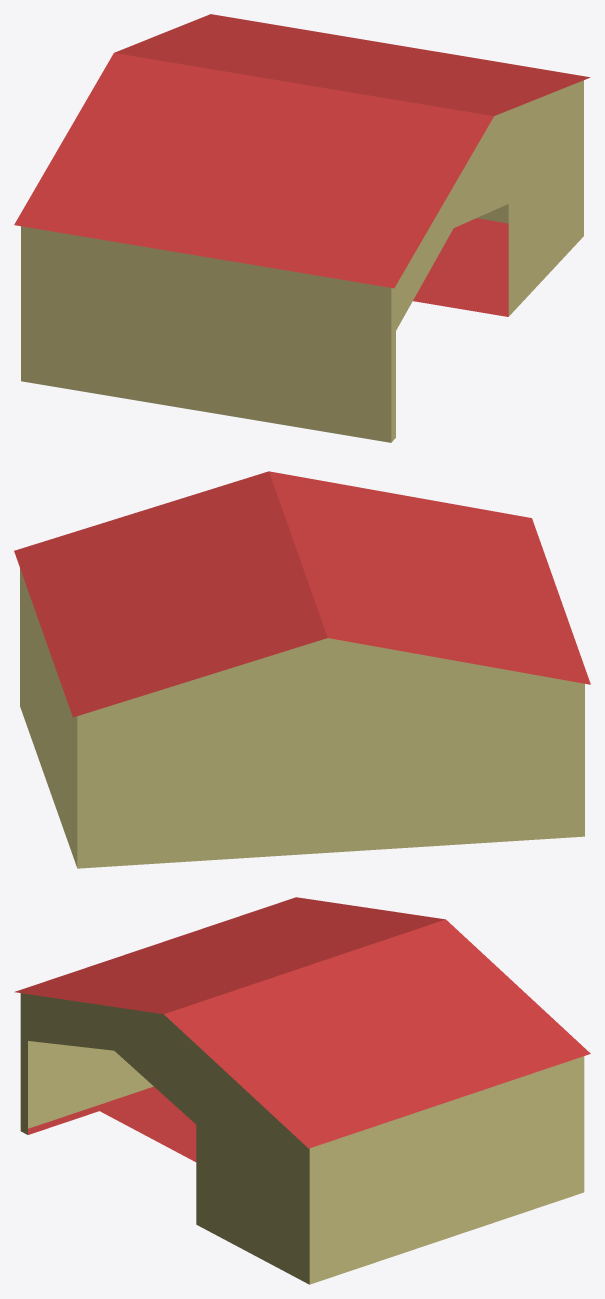
3 renders of one model, top to bottom at view 1: azimuth 30°, elevation 25°; view 2: azimuth 150°, elevation 25°; view 3: azimuth 270°, elevation 25°, orthographic. The views are drawn at different scales.
Size of the model in its own units: 31.21 by 30.26 by 11.36.
